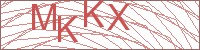K: (57, 14, 79, 43), (83, 1, 106, 28)
M: (30, 3, 57, 31)
X: (106, 2, 131, 32)
